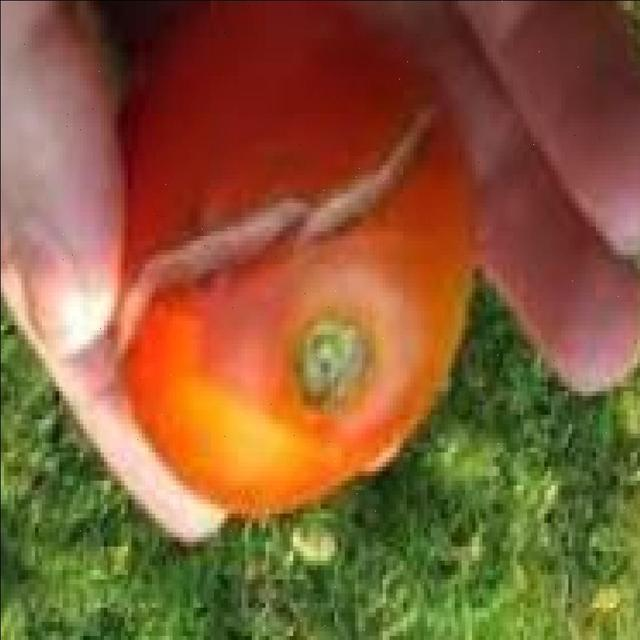Cracking Fruit: (70, 63, 289, 253)
